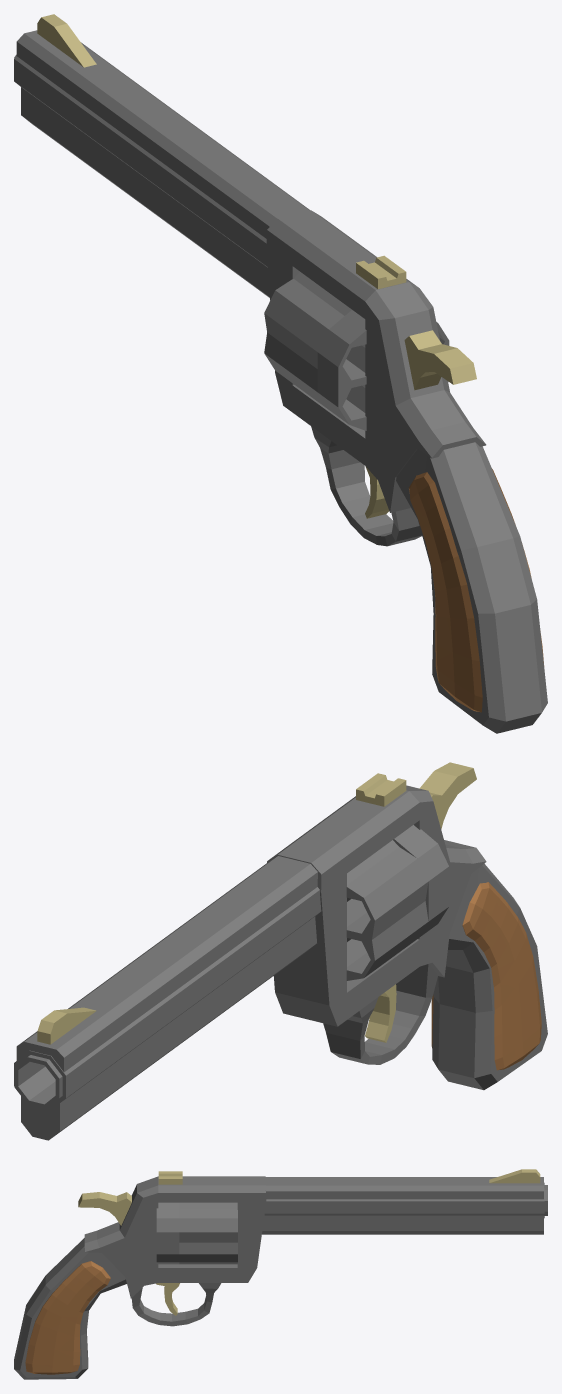
File: Revolver-B-Long.fbx
The picture shows the model from 3 angles, top to bottom: view 1: azimuth 30°, elevation 25°; view 2: azimuth 150°, elevation 25°; view 3: azimuth 270°, elevation 25°; orthographic projection. The views are drawn at different scales.
Visible parts, largest first — view 1: Revolver.002; view 2: Revolver.002; view 3: Revolver.002.
Part boxes in pixels (<box>): Revolver.002: <box>14,14,547,733</box>; Revolver.002: <box>14,762,547,1140</box>; Revolver.002: <box>14,1169,547,1379</box>.
Size of the model in its own units: 70.81 by 227 by 539.
